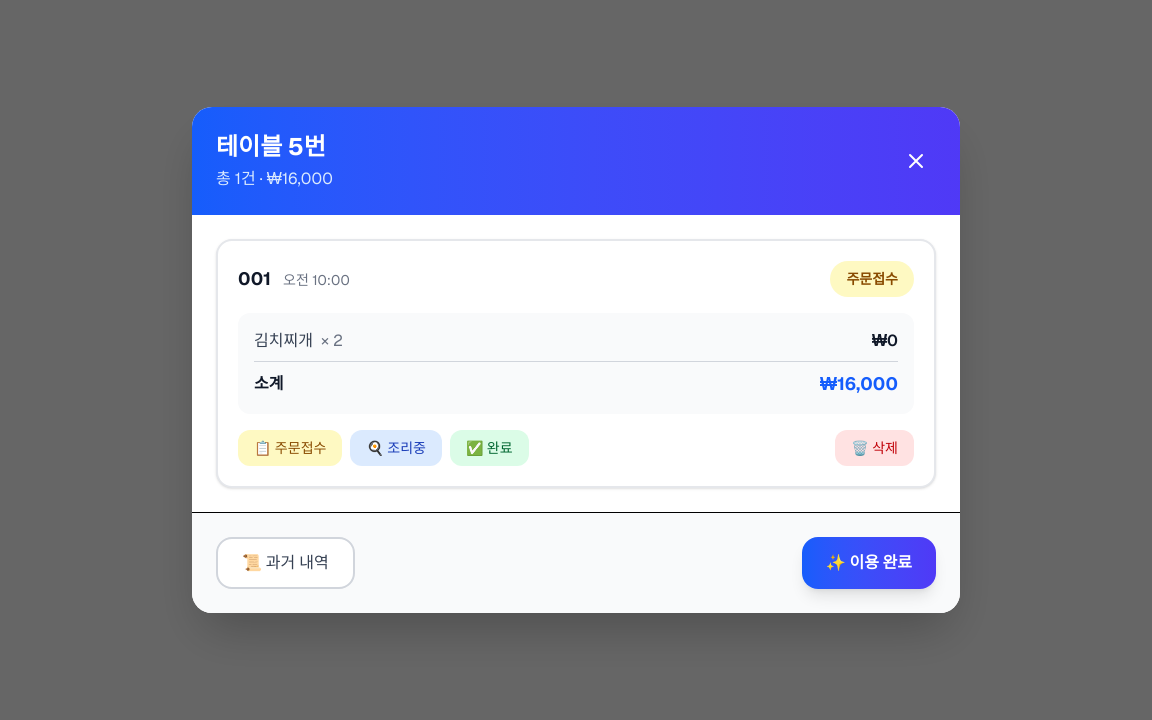
Test: OrderDetailModal › TC-FE2-018: should show delete confirmation
The width and height of the screenshot is (1152, 720).
Click the button with test id "delete-order-o1" at (875, 448), box [835,430,914,466]
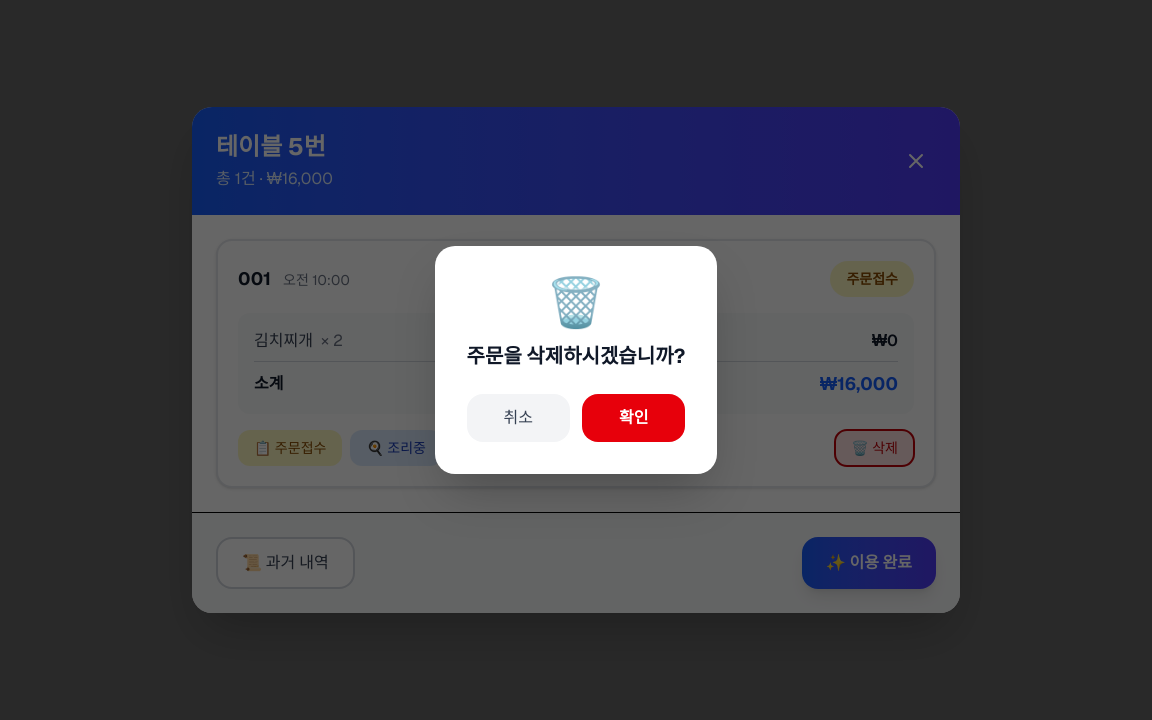
Expected: the element with test id "confirm-dialog" is shown
